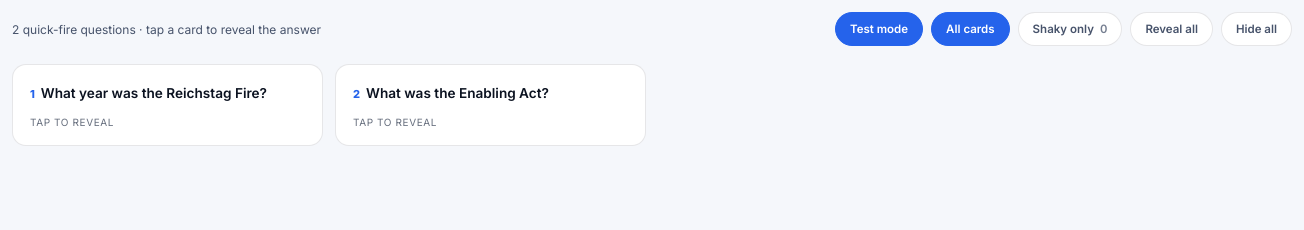
TriviaGrid › shaky filter hides cards that are not rated shaky
What coordinates should you click on to do the following:
click the button "What year was the Reichstag Fire?"
I would click on:
 (154, 93)
Its box is [12,64,323,146].
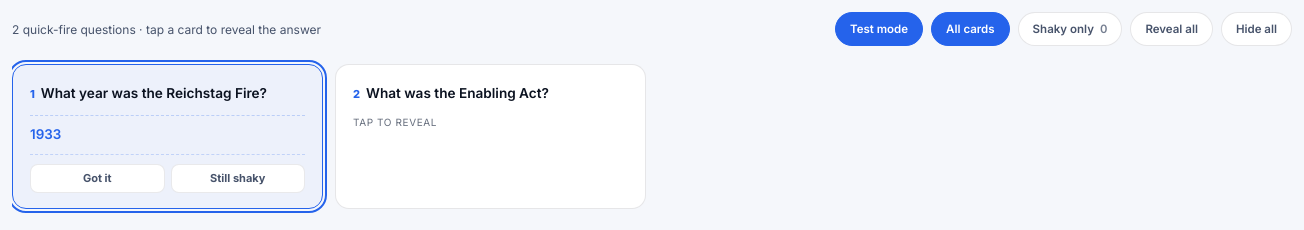
What coordinates should you click on to do the following:
click the button "Still shaky"
I would click on:
 (238, 179)
Its box is [170,164,305,193].
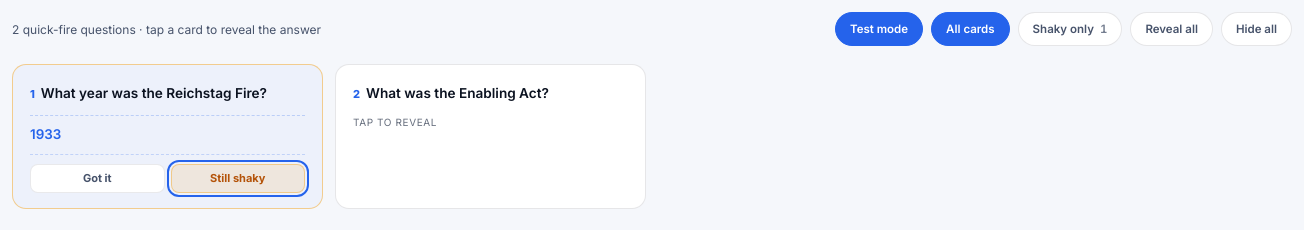
What coordinates should you click on to do the following:
click the button "Shaky only 1"
I would click on:
 (1070, 29)
Its box is [1018,12,1122,46].
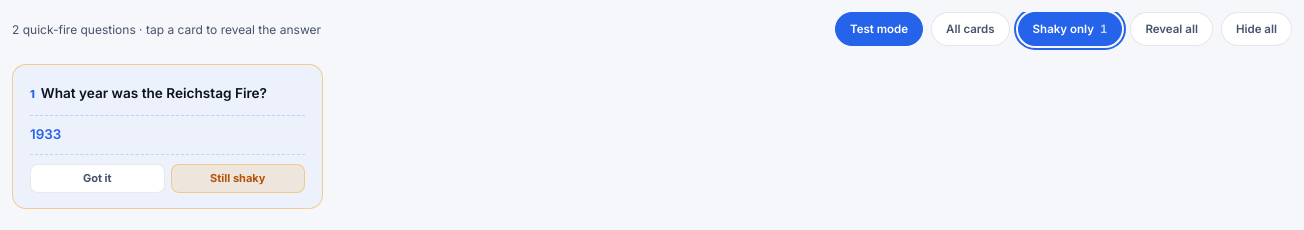
Check: the text "What year was the Reichstag Fire?" is shown, box [41,85,267,101]
Check: the button "What was the Enabling Act?" is gone
